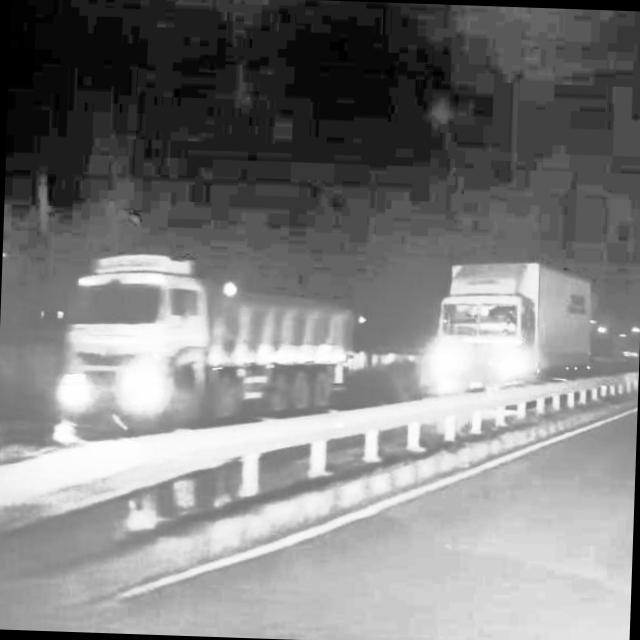Truck: (54, 249, 360, 442), (434, 257, 597, 398)
